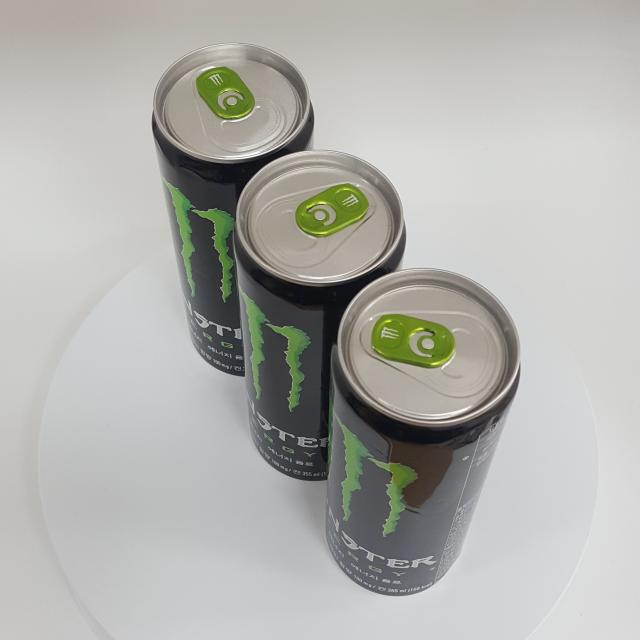--------355ML: (325, 268, 521, 596), (232, 148, 407, 482), (151, 42, 319, 378)
